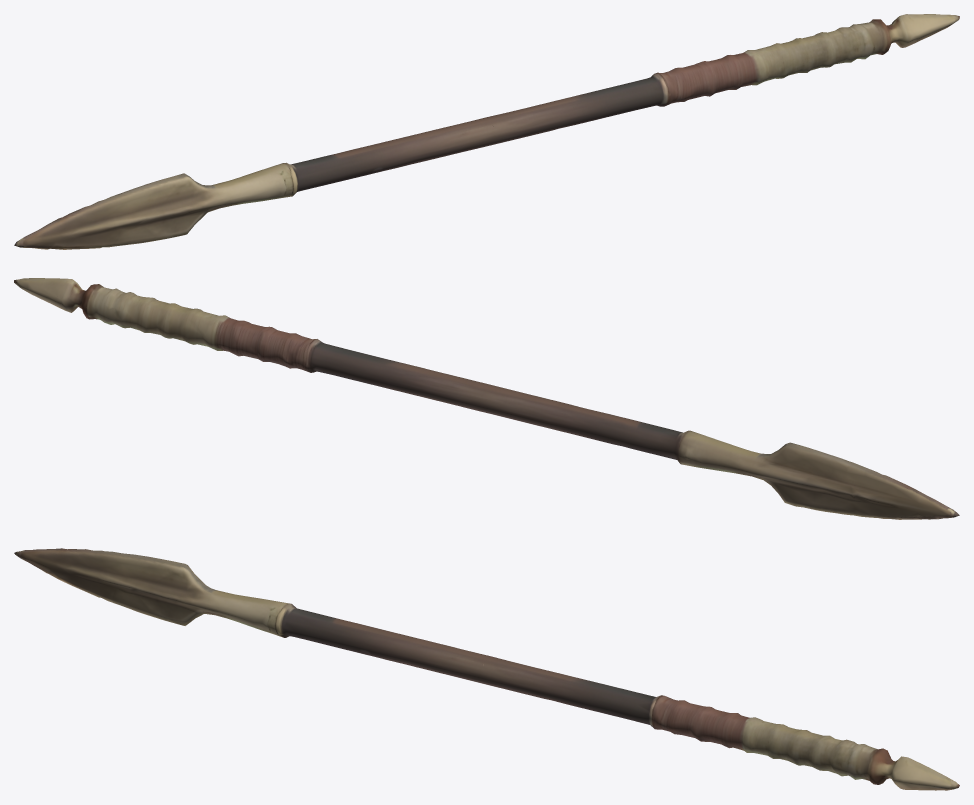
Rendered from Meshy_AI_Bronze_Spear_0123200643_texture.fbx.
3 views of the same model, one above another, from view 1: azimuth 30°, elevation 25°; view 2: azimuth 150°, elevation 25°; view 3: azimuth 330°, elevation 25° (orthographic).
Visible parts, largest first — view 1: Mesh1.0; view 2: Mesh1.0; view 3: Mesh1.0.
Part boxes in pixels (<box>): Mesh1.0: <box>14,14,959,249</box>; Mesh1.0: <box>14,278,959,519</box>; Mesh1.0: <box>14,548,959,790</box>.
Size of the model in its own units: 191 by 11.89 by 7.25.
Materials: 1 (1 with a texture image).
